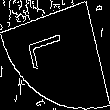L_E: (31, 33, 79, 77)
